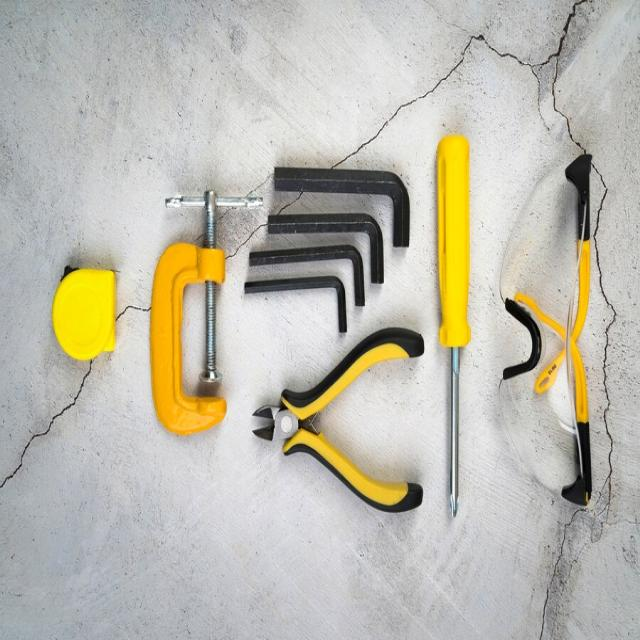Screwdriver: (438, 135, 470, 516)
